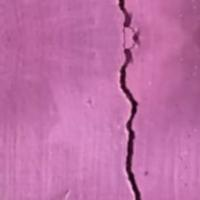crack: (108, 2, 160, 199)
